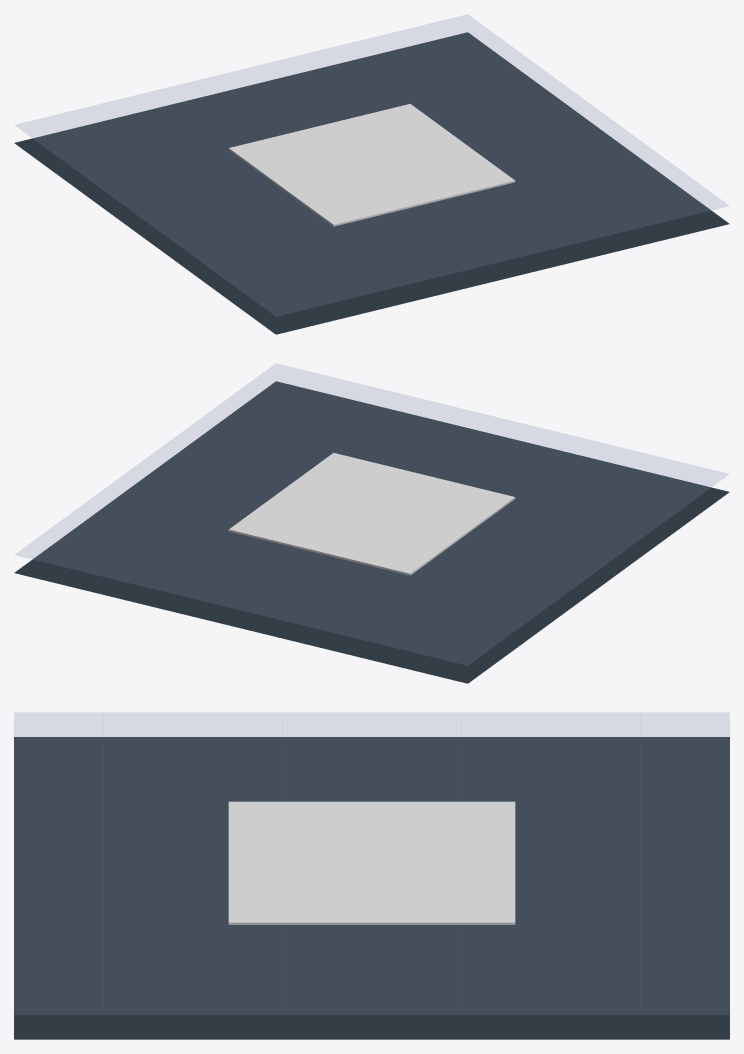
3 views of the same model, one above another, from view 1: azimuth 30°, elevation 25°; view 2: azimuth 150°, elevation 25°; view 3: azimuth 270°, elevation 25° (orthographic). The views are drawn at different scales.
Visible parts, largest first — view 1: Sea-bottom, Sea, Cube; view 2: Sea-bottom, Sea, Cube; view 3: Sea, Sea-bottom, Cube.
Part boxes in pixels (x1,y1,x2,y2): Sea-bottom: (14,32,729,334); Sea: (15,14,728,316); Cube: (228,104,515,226); Sea-bottom: (14,381,729,683); Sea: (15,363,728,665); Cube: (228,453,515,575); Sea: (14,712,729,1014); Sea-bottom: (14,737,729,1039); Cube: (228,801,515,924).
Bounding box in the file's own units: 100 × 4.05 × 100.
